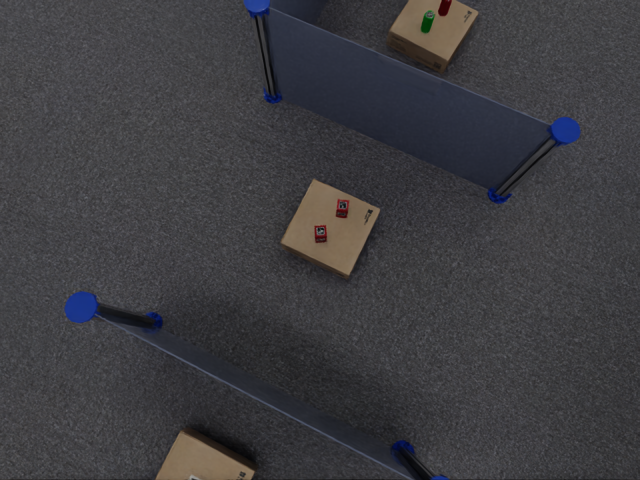puck_green_cyl: (421, 10, 434, 32)
puck_red_box: (336, 199, 348, 217), (314, 225, 326, 242)
puck_red_cyl: (438, 0, 451, 15)
